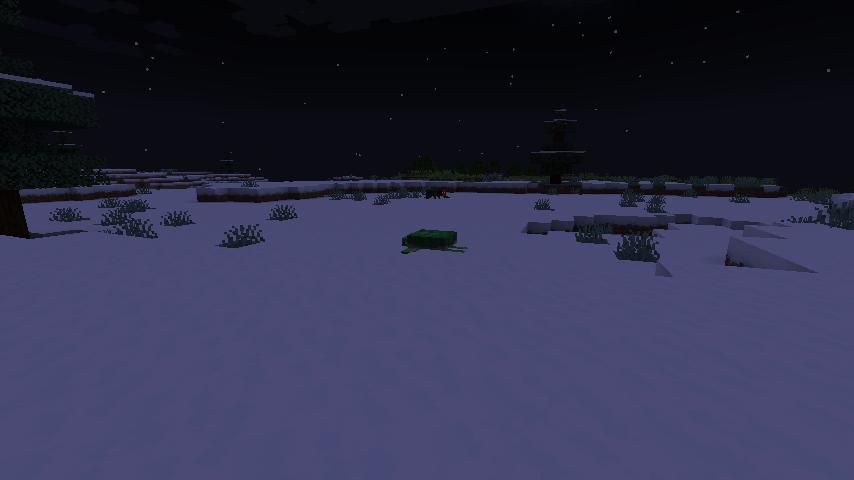spider: (423, 185, 451, 201)
turtle: (398, 226, 469, 258)
